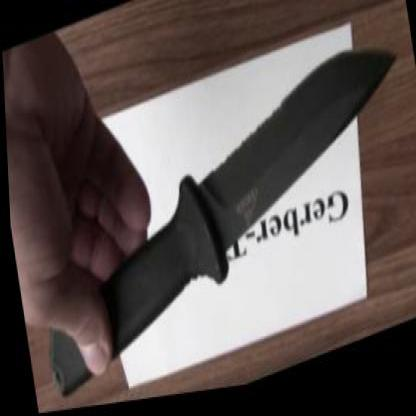knife: (47, 11, 415, 381)
